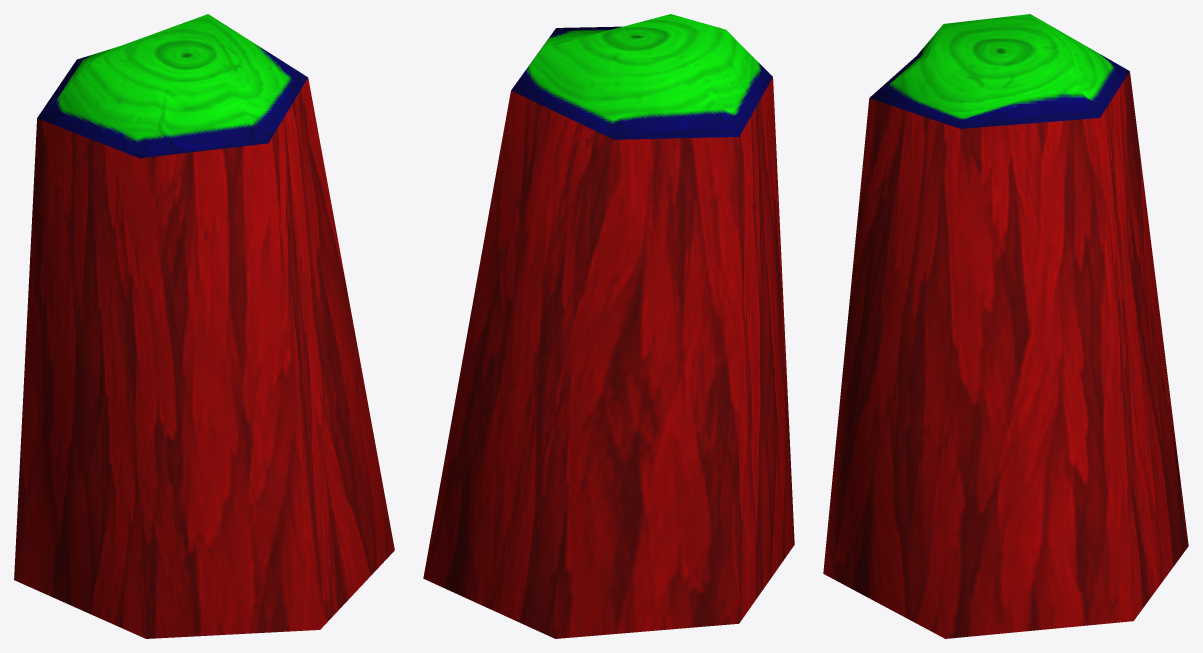
The model's file is WillowStump01.fbx.
3 renders of one model, left to right at view 1: azimuth 30°, elevation 25°; view 2: azimuth 150°, elevation 25°; view 3: azimuth 270°, elevation 25°, orthographic. The views are drawn at different scales.
Visible parts, largest first — view 1: WillowStump01_LOD0; view 2: WillowStump01_LOD0; view 3: WillowStump01_LOD0.
Boxes of the visible parts, box(x1,y1,x2,y2) form: WillowStump01_LOD0: box(14, 14, 394, 638); WillowStump01_LOD0: box(423, 14, 794, 638); WillowStump01_LOD0: box(823, 14, 1188, 638).
Size of what is drawn, in the model's own units: 0.3839 by 0.6021 by 0.3957.
